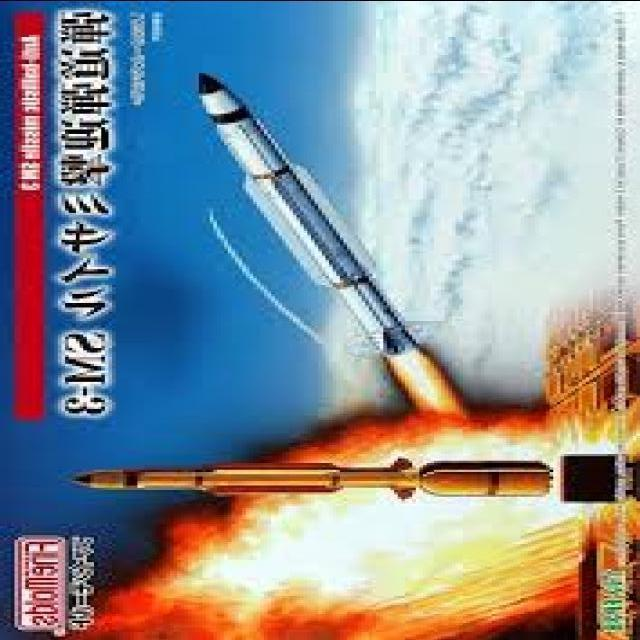Missile: (183, 70, 427, 361), (63, 452, 550, 505)
